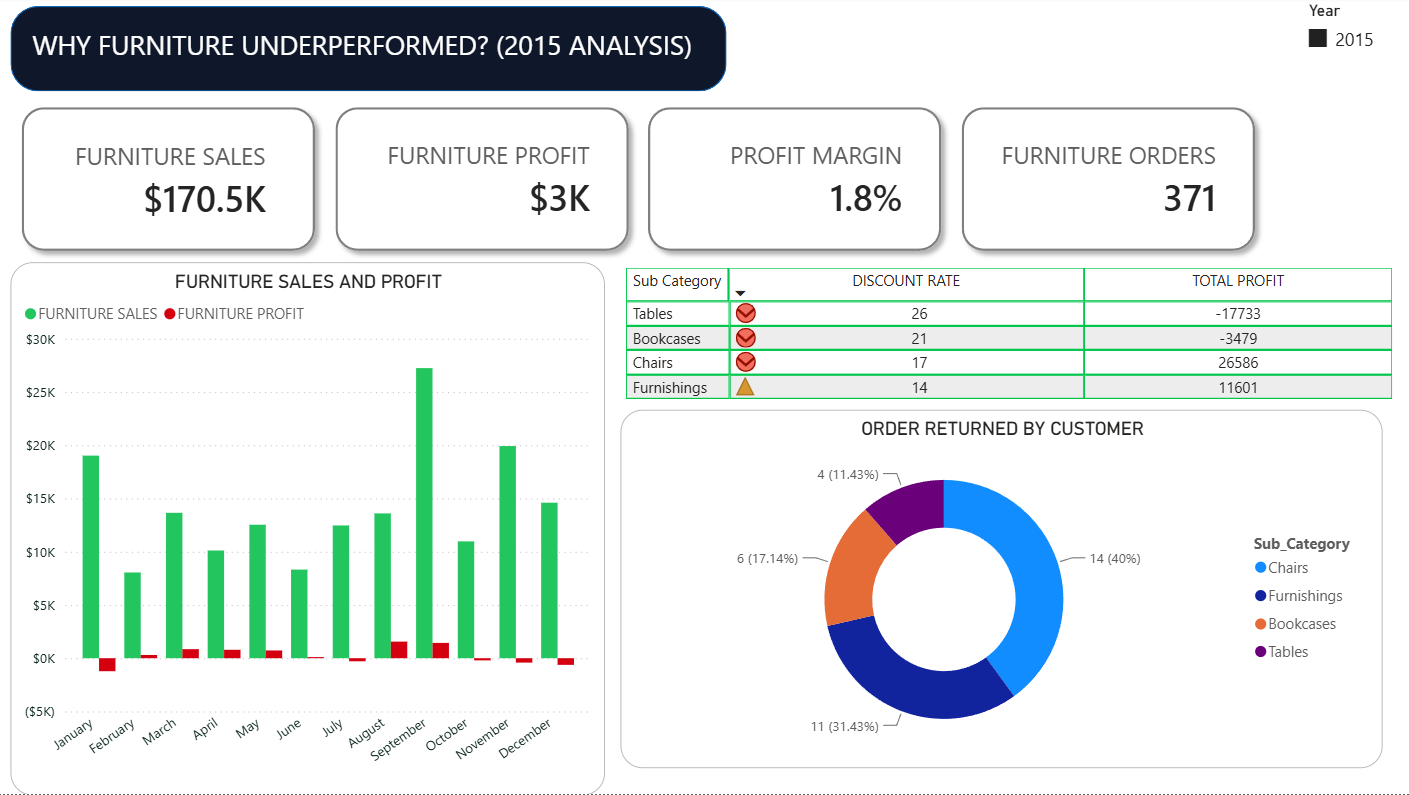

What the dashboard file says about the page in this screenshot:
{"tool":"powerbi","page":{"name":"UNDERPERFORMED CATEGORY ","canvas":[1280,720],"ordinal":1},"visuals":[{"type":"shape","box":[11,8.6,645.7,77],"z":0},{"type":"shape","box":[12.5,91.8,282.4,147.5],"z":0,"group":"g1"},{"type":"shape","box":[295,91.8,282.4,147.5],"z":0,"group":"g2"},{"type":"shape","box":[577.4,91.8,282.4,147.5],"z":0,"group":"g3"},{"type":"shape","box":[859.8,91.8,282.4,147.5],"z":0,"group":"g4"},{"type":"textbox","box":[25.7,22,613.9,52.6],"z":1000},{"type":"cardVisual","fields":{"Data":["Book1.FURNITURE PROFIT"]},"box":[306.2,99,256,135],"z":1000,"group":"g2"},{"type":"cardVisual","fields":{"Data":["Book1.FP"]},"box":[588.6,99,256,135],"z":1000,"group":"g3"},{"type":"cardVisual","fields":{"Data":["Book1.FURNITURE ORDERS"]},"box":[871,99,256,135],"z":1000,"group":"g4"},{"type":"cardVisual","fields":{"Data":["Book1.FURNITURE SALES"]},"box":[38.1,99.2,232.6,133.8],"z":1000,"group":"g1"},{"type":"group","id":"g1","title":"Group 1","box":[12.5,91.8,282.4,147.5],"z":2000},{"type":"group","id":"g2","title":"Group 2","box":[295,91.8,282.4,147.5],"z":3000},{"type":"group","id":"g3","title":"Group 2","box":[577.4,91.8,282.4,147.5],"z":4000},{"type":"group","id":"g4","title":"Group 2","box":[859.8,91.8,282.4,147.5],"z":5000},{"type":"clusteredColumnChart","title":"FURNITURE SALES AND PROFIT ","fields":{"Category":["Book1.Order Date.Variation.Date Hierarchy.Month"],"Y":["Book1.FURNITURE SALES","Book1.FURNITURE PROFIT"]},"box":[11,239.7,535.6,480.6],"z":6000},{"type":"slicer","fields":{"Values":["Book1.Order Date.Variation.Date Hierarchy.Year"]},"box":[1113.2,0,166.8,69.8],"z":7000},{"type":"pivotTable","fields":{"Rows":["higher discount lead to lower profit.Sub_Category"],"Values":["Avg(higher discount lead to lower profit.avg(Discount) * 100)","Sum(higher discount lead to lower profit.sum(Profit))"]},"box":[561.3,239.7,701.9,155.3],"z":8000},{"type":"donutChart","title":"ORDER RETURNED  BY CUSTOMER","fields":{"Category":["higher discount lead to lower profit.Sub_Category"],"Y":["Book1.R.O"]},"box":[561.3,373,687.2,322.8],"z":9000}]}

Visuals, with their boxes in screenshot pixels (x1, y1, x2, y2), scaled from the page's 1280x720 canvas onto the 1409x795 screenshot:
shape: l=12, t=9, r=723, b=95
shape: l=14, t=101, r=325, b=264
shape: l=325, t=101, r=636, b=264
shape: l=636, t=101, r=946, b=264
shape: l=946, t=101, r=1257, b=264
textbox: l=28, t=24, r=704, b=82
cardVisual - Book1.FURNITURE PROFIT: l=337, t=109, r=619, b=258
cardVisual - Book1.FP: l=648, t=109, r=930, b=258
cardVisual - Book1.FURNITURE ORDERS: l=959, t=109, r=1241, b=258
cardVisual - Book1.FURNITURE SALES: l=42, t=110, r=298, b=257
"Group 1" group: l=14, t=101, r=325, b=264
"Group 2" group: l=325, t=101, r=636, b=264
"Group 2" group: l=636, t=101, r=946, b=264
"Group 2" group: l=946, t=101, r=1257, b=264
"FURNITURE SALES AND PROFIT " clusteredColumnChart: l=12, t=265, r=602, b=794
slicer - Book1.Order Date.Variation.Date Hierarchy.Year: l=1225, t=0, r=1408, b=77
pivotTable - higher discount lead to lower profit.Sub_Category x Avg(higher discount lead to lower profit.avg(Discount) * 100): l=618, t=265, r=1391, b=436
"ORDER RETURNED  BY CUSTOMER" donutChart: l=618, t=412, r=1374, b=768
